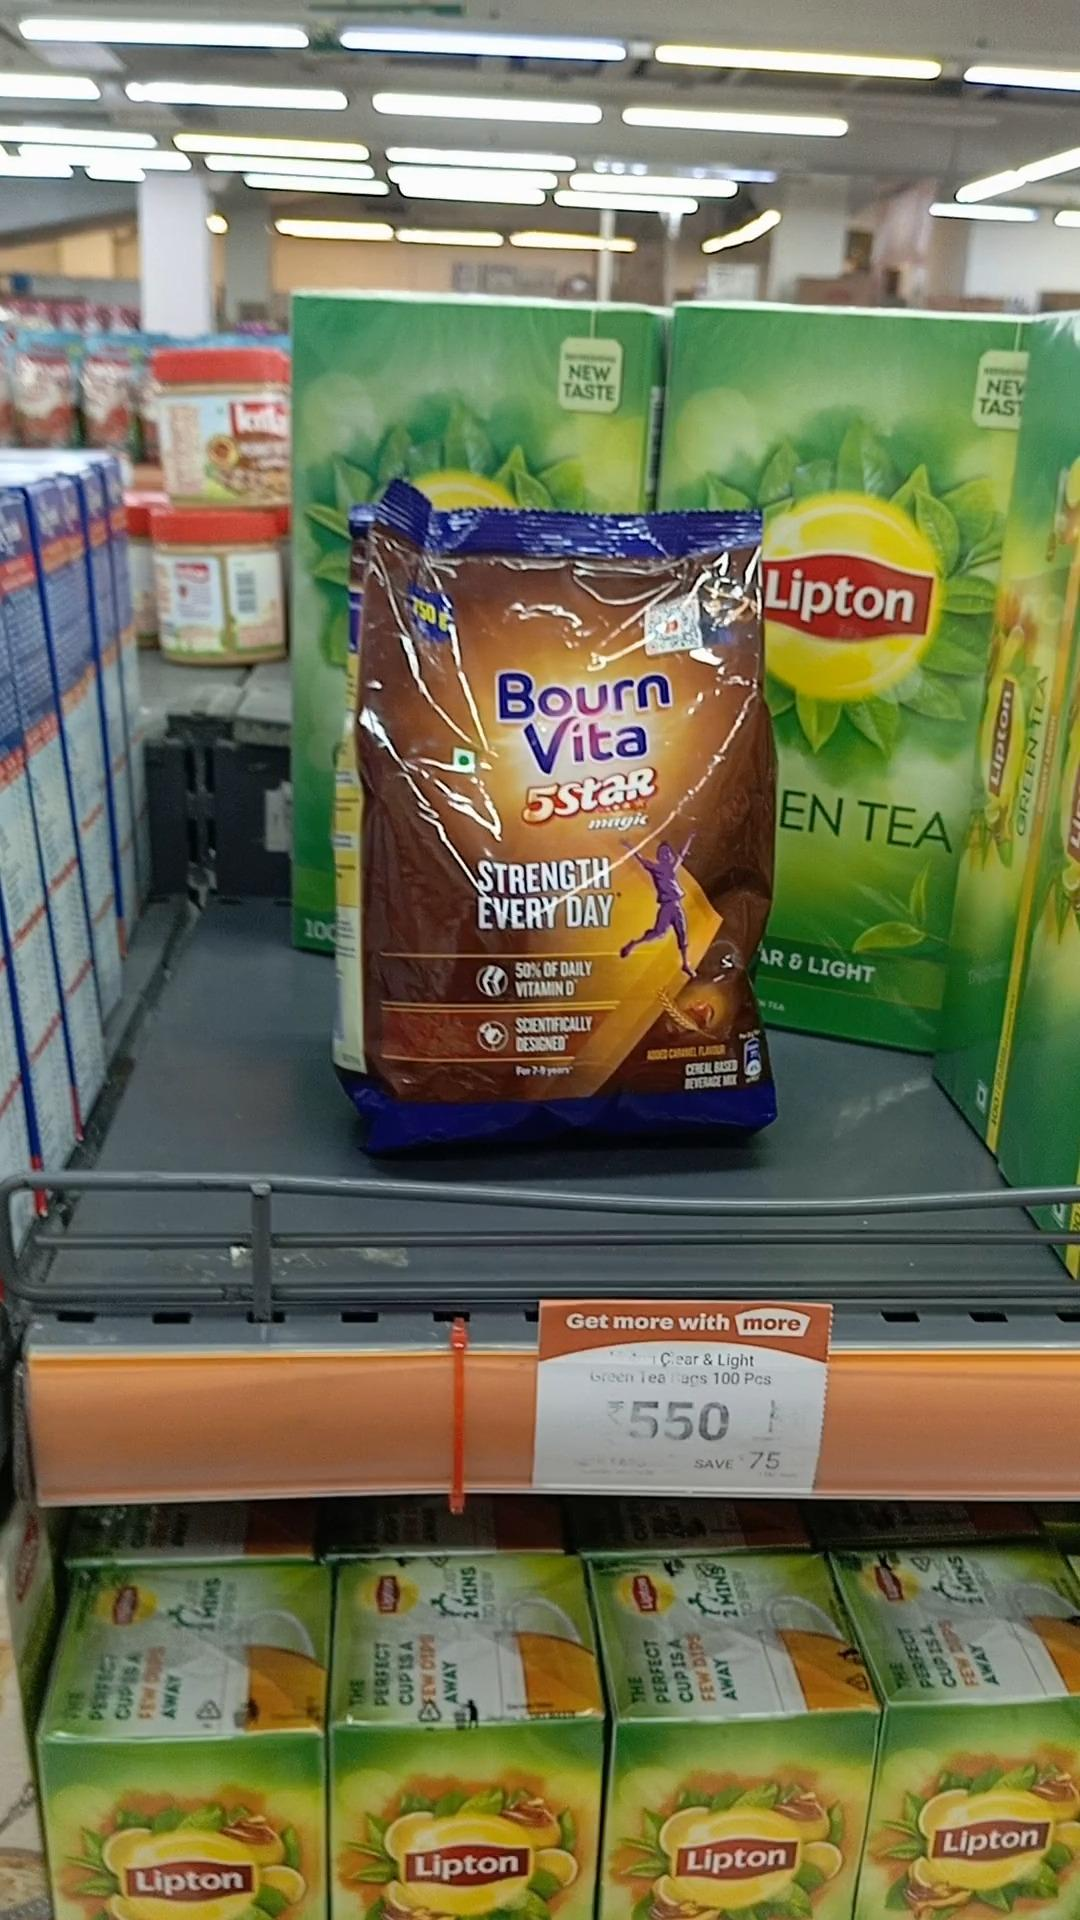BOURN_VITA_FIVE_STAR_MAGIC_750_G_POUCH: (351, 481, 771, 1145)
